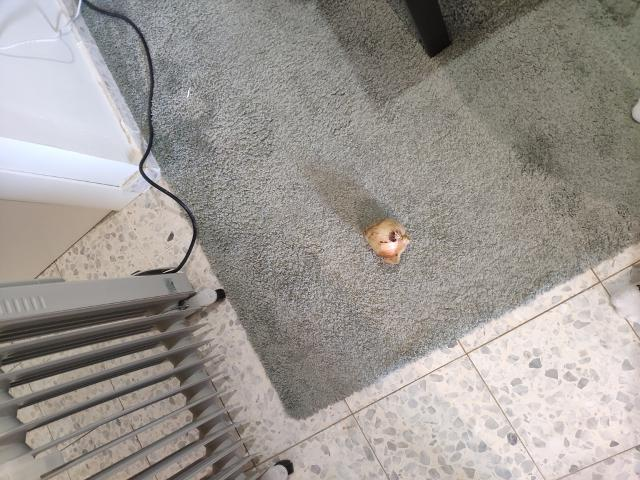onion: (362, 218, 409, 258)
